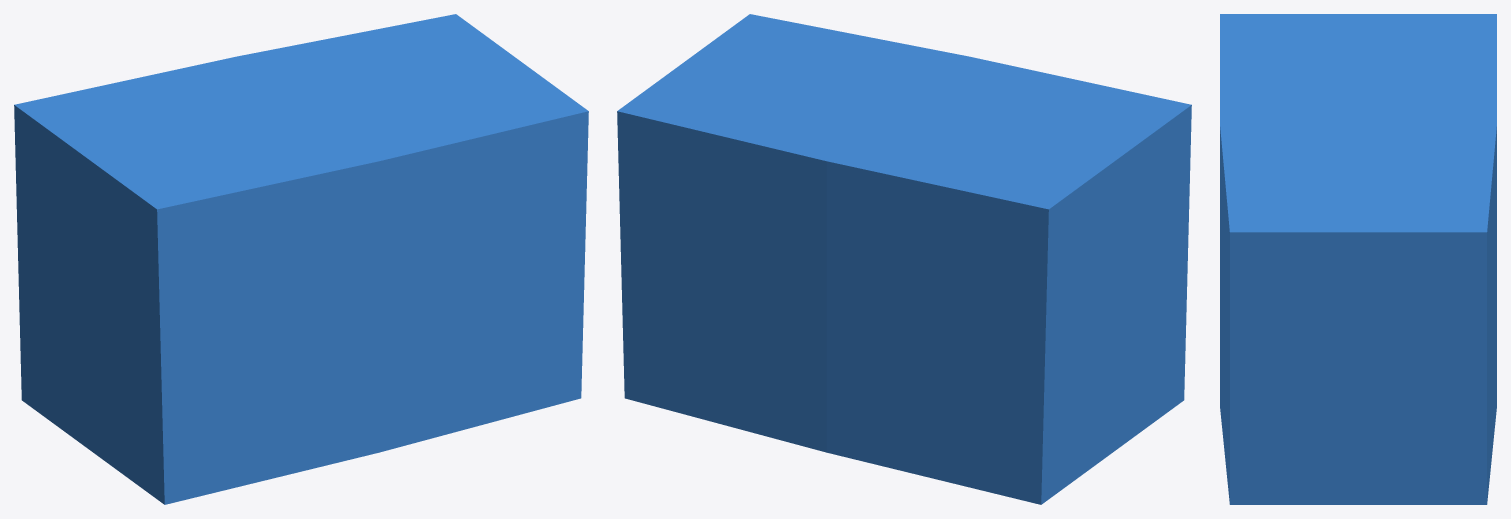
File: Collision_Prop_Brick3.fbx
3 views of the same model, side by side, from view 1: azimuth 30°, elevation 25°; view 2: azimuth 150°, elevation 25°; view 3: azimuth 270°, elevation 25° (orthographic). The views are drawn at different scales.
Parts seen in each view (by area): view 1: UCX_Prop_Brick3_1; view 2: UCX_Prop_Brick3_1; view 3: UCX_Prop_Brick3_1.
Boxes of the visible parts, x1,y1,x2,y2 form: UCX_Prop_Brick3_1: (14,14,588,504); UCX_Prop_Brick3_1: (617,14,1191,504); UCX_Prop_Brick3_1: (1220,14,1496,504).
Size of the model in its own units: 38.43 by 25 by 21.79.
